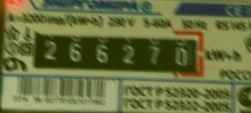0: (173, 44, 186, 65)
2: (42, 37, 57, 59), (121, 42, 133, 63)
6: (68, 40, 81, 61), (94, 41, 107, 61)
7: (146, 43, 159, 64)
screen: (22, 18, 211, 83)
